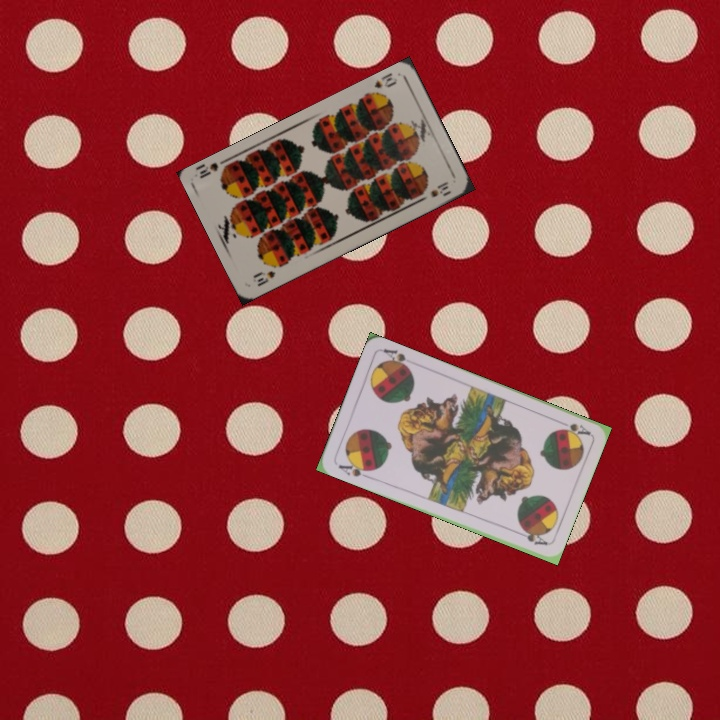S10: (364, 69, 400, 98), (250, 267, 278, 289)
SA: (334, 457, 375, 481), (553, 416, 593, 439)
